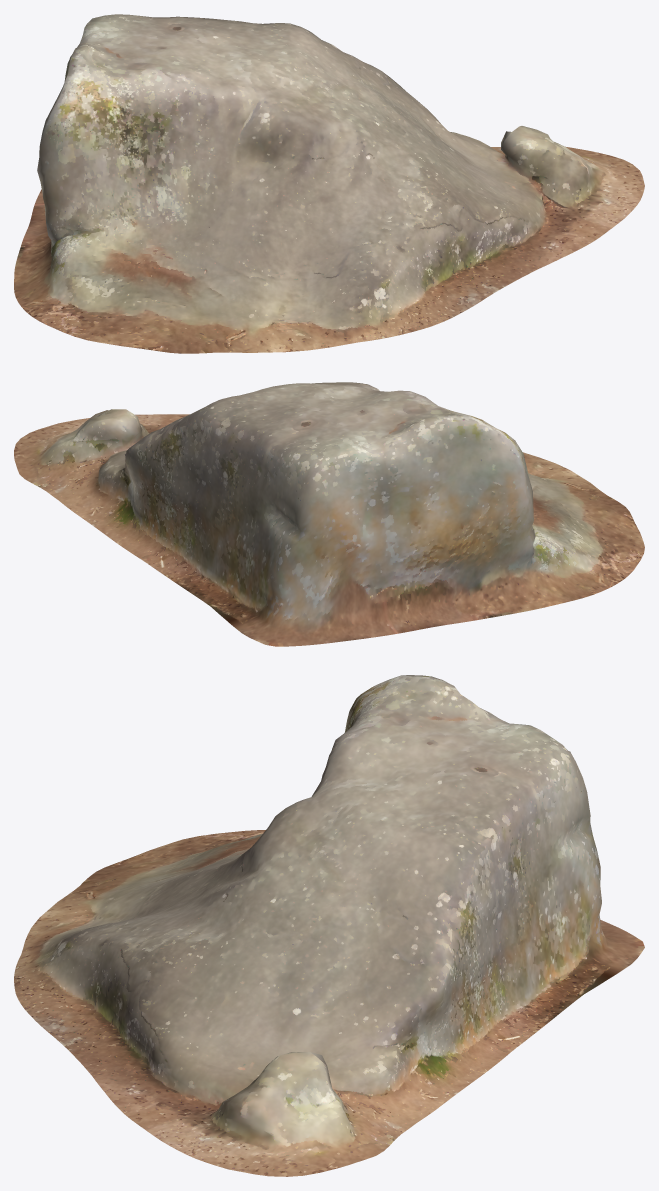
Rendered from Rock_14.FBX.
The picture shows the model from 3 angles, top to bottom: view 1: azimuth 30°, elevation 25°; view 2: azimuth 150°, elevation 25°; view 3: azimuth 270°, elevation 25°; orthographic projection. The views are drawn at different scales.
Parts seen in each view (by area): view 1: Rock14_LOD0; view 2: Rock14_LOD0; view 3: Rock14_LOD0.
Part boxes in pixels (x1=…): Rock14_LOD0: x1=14, y1=14, x2=644, y2=353; Rock14_LOD0: x1=14, y1=382, x2=644, y2=646; Rock14_LOD0: x1=14, y1=675, x2=644, y2=1176.
Size of what is drawn, in the model's own units: 13.83 by 10.64 by 4.06.
Materials: 1 (1 with a texture image).
